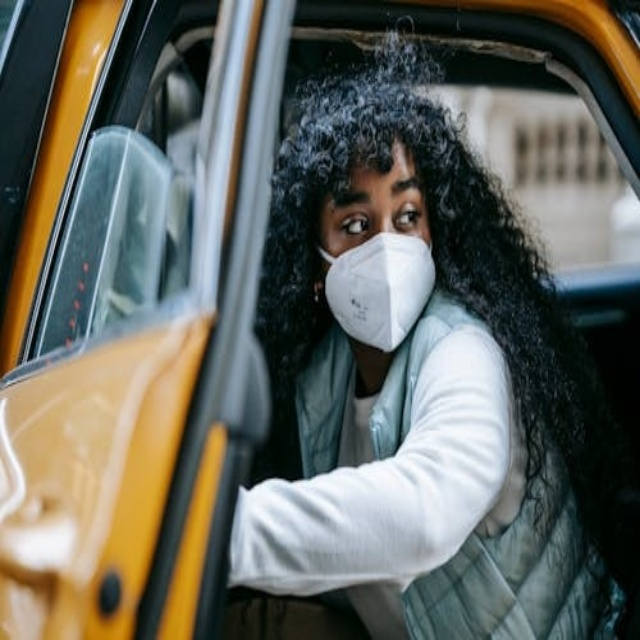Mascara: (318, 231, 437, 352)
Sin_gafas: (326, 183, 422, 252)
